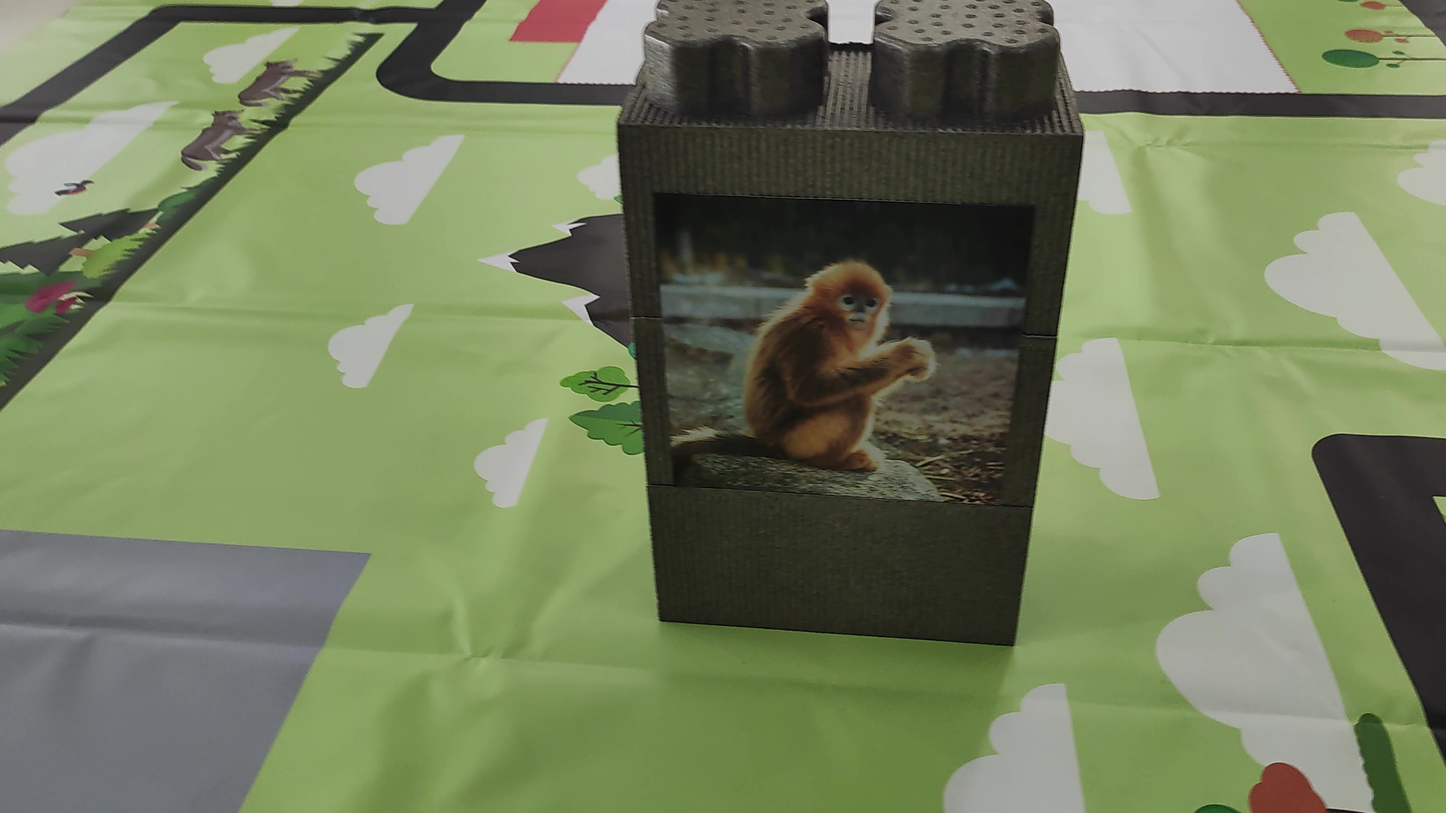monkey: (709, 244, 964, 495)
